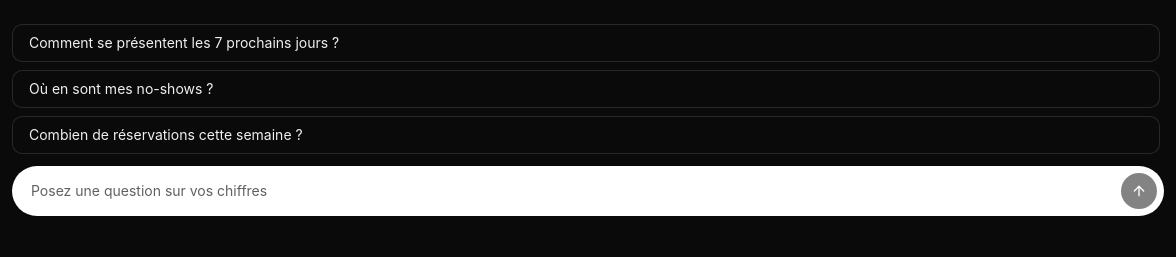
Test: CompanionPanel › envoie la suggestion comme question et affiche la réponse avec un seul lien par écran
Step 1. Click the button "Comment se présentent les 7 prochains jours ?" → [184, 42], box [12,24,1160,62]
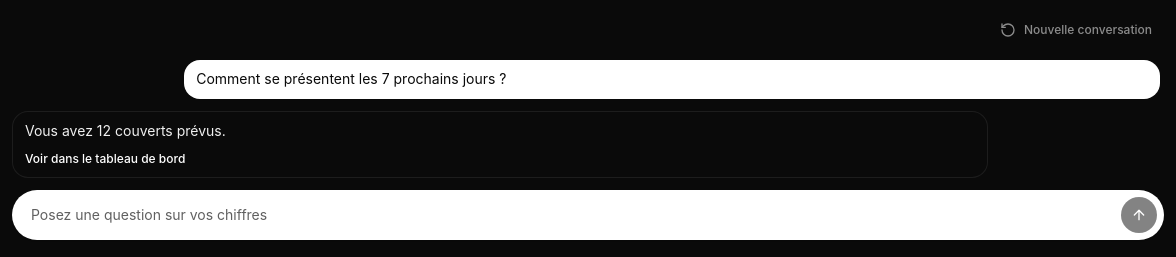
expect the text "Vous avez 12 couverts prévus." is shown: met, box [25,122,226,139]
expect the number of links "Voir dans le tableau de bord" is 1: met, box [25,150,185,166]
